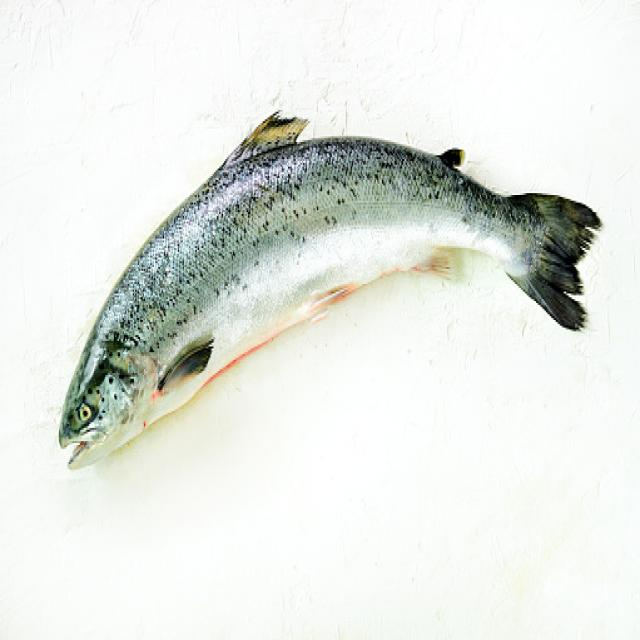salmon: (48, 106, 606, 486)
